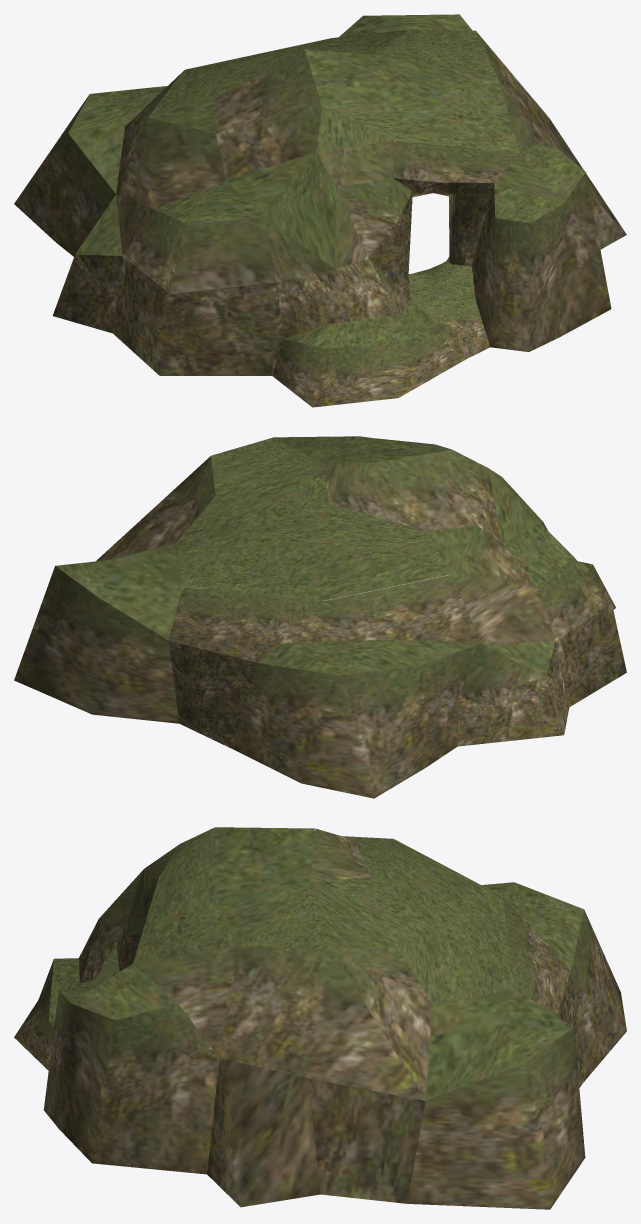
The model's file is poi_all_bunker_mad_bio_s01_r0_mesh_l3.fbx.
3 renders of one model, top to bottom at view 1: azimuth 30°, elevation 25°; view 2: azimuth 150°, elevation 25°; view 3: azimuth 270°, elevation 25°, orthographic. The views are drawn at different scales.
Parts seen in each view (by area): view 1: mesh_node; view 2: mesh_node; view 3: mesh_node.
Part boxes in pixels (x1,y1,x2,y2): mesh_node: [14, 14, 626, 407]; mesh_node: [14, 436, 626, 798]; mesh_node: [14, 827, 626, 1209].
Size of the model in its own units: 89.36 by 37.67 by 88.91.
